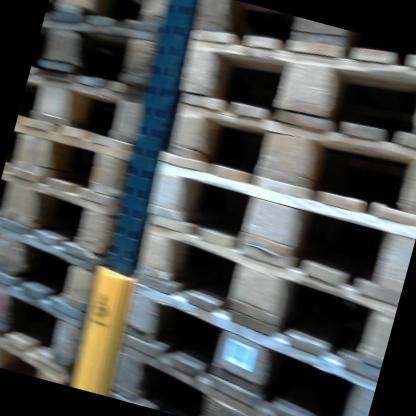pallet: (107, 213, 398, 382), (136, 150, 415, 304), (168, 0, 416, 169), (150, 83, 416, 228), (110, 284, 380, 416), (103, 323, 370, 416), (187, 0, 416, 95), (0, 217, 118, 386), (0, 163, 144, 272), (33, 2, 180, 107), (18, 52, 165, 155), (5, 114, 152, 209), (0, 272, 104, 367), (46, 0, 185, 52)
